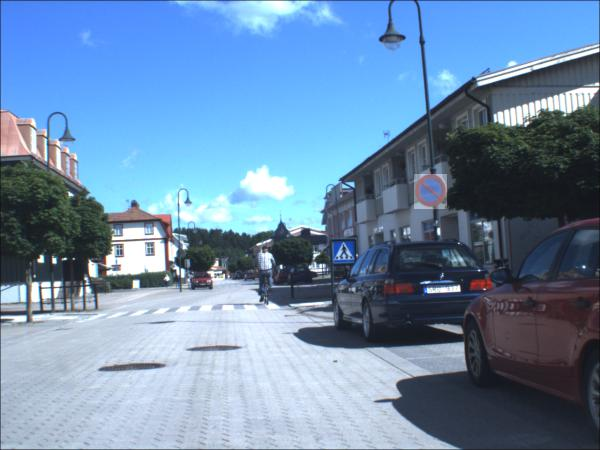NO_PARKING: (416, 175, 450, 211)
PEDESTRIAN_CROSSING: (332, 240, 358, 268)
